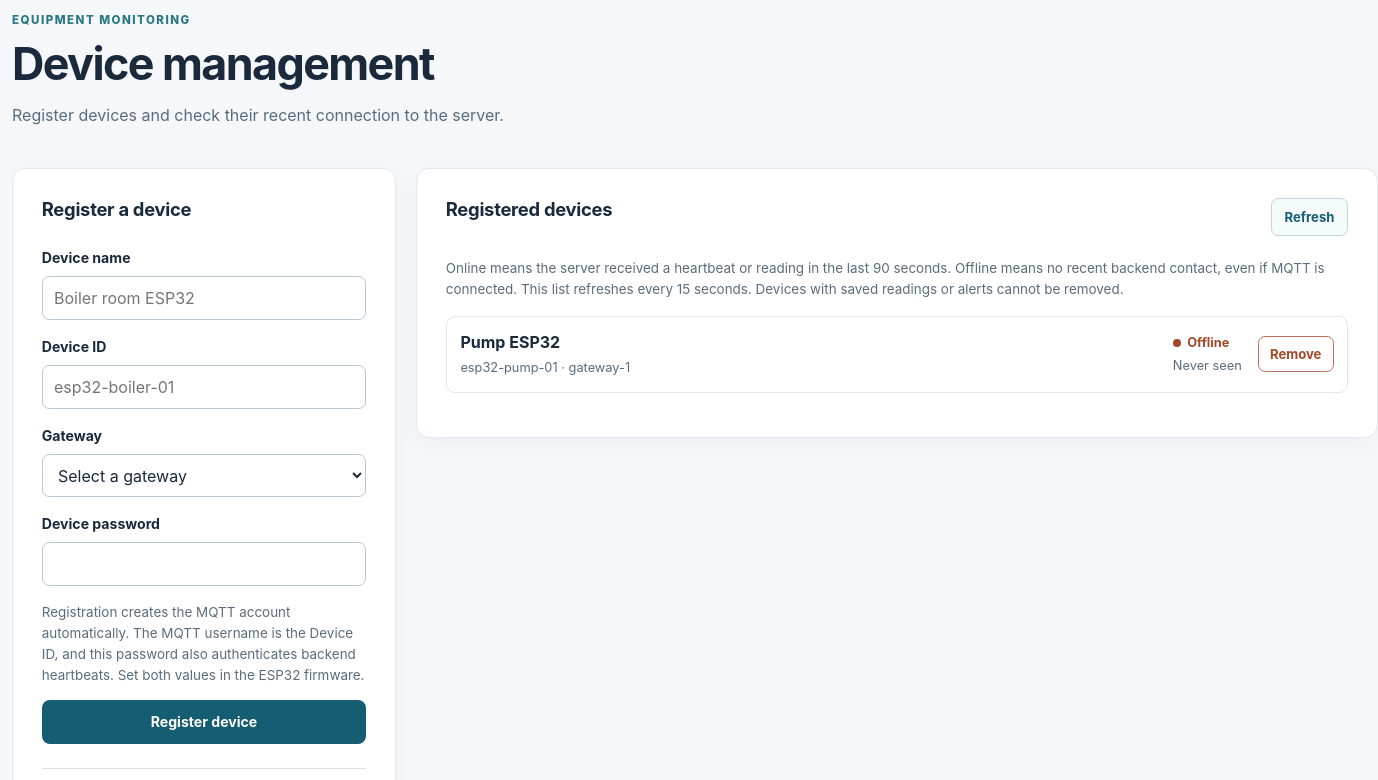
Test: device management › removes a device after confirmation and refreshes the list
Click the button with aria-label "Remove Pump ESP32 (esp32-pump-01)": (1296, 354) [1258,336,1334,372]
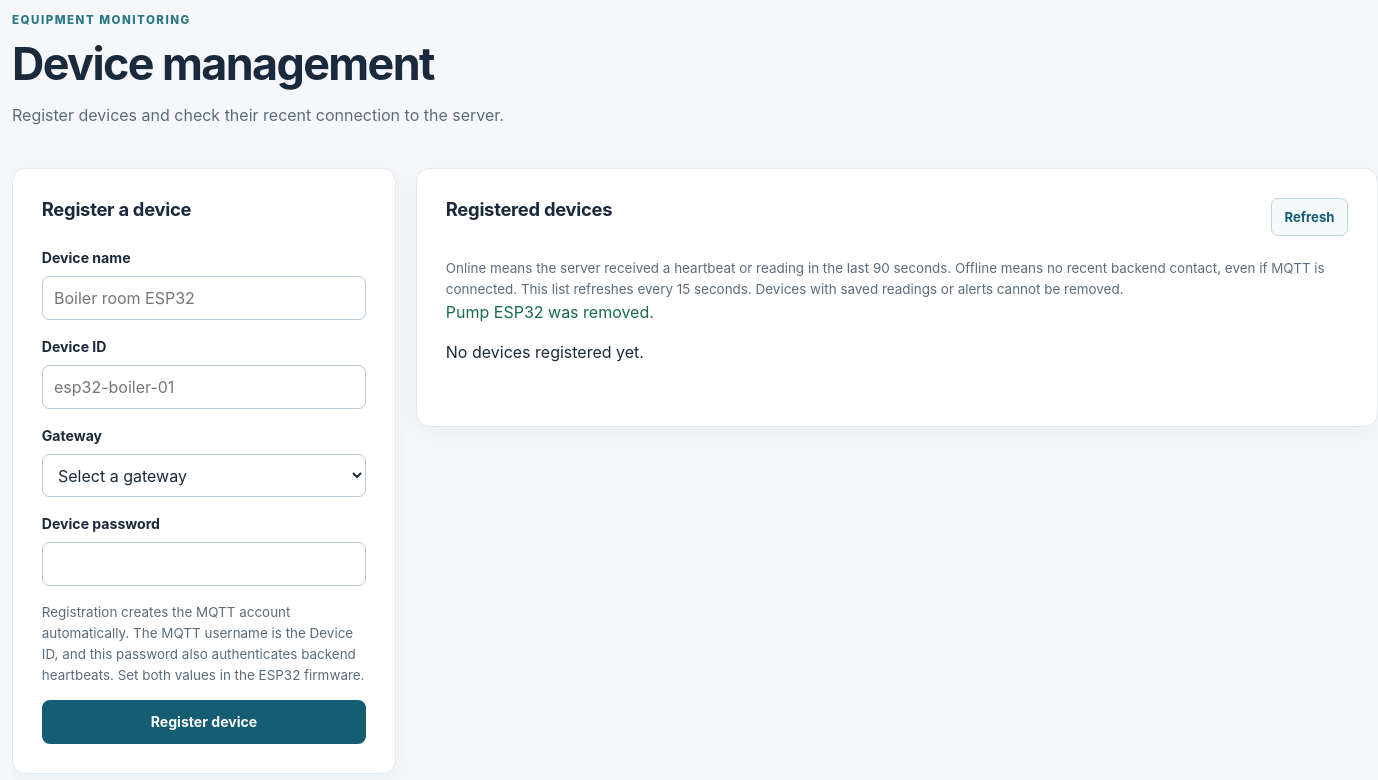
Check: the text "Pump ESP32 was removed." is shown, box [446,302,654,322]
Check: the text "esp32-pump-01 · gateway-1" is gone
